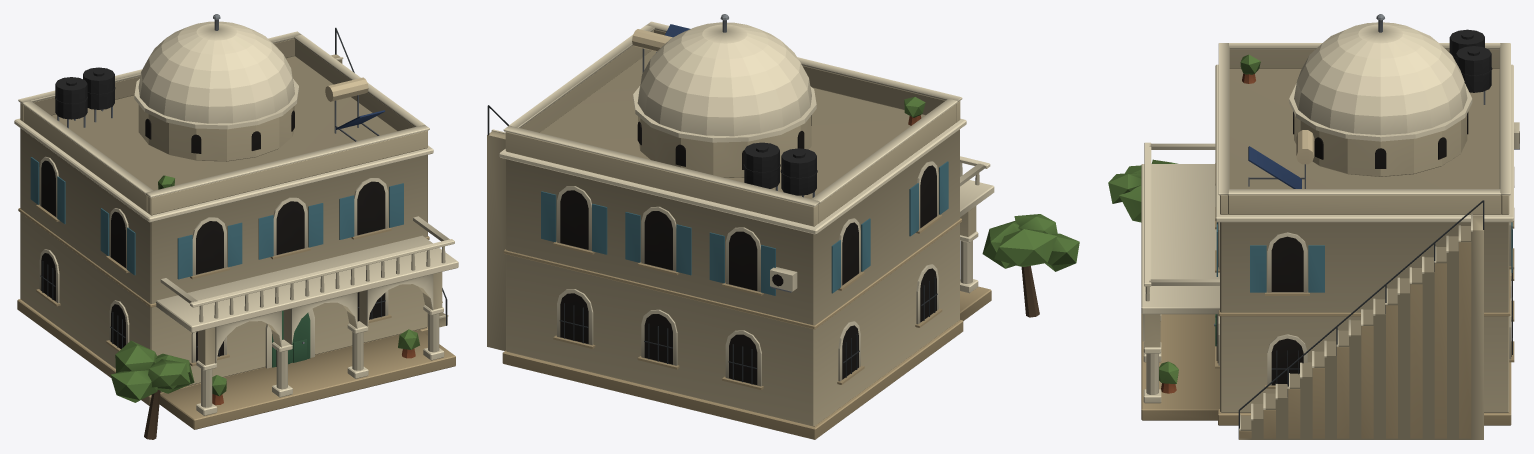
File: jlm_courtyard.glb
The picture shows the model from 3 angles, left to right: view 1: azimuth 30°, elevation 25°; view 2: azimuth 150°, elevation 25°; view 3: azimuth 270°, elevation 25°; orthographic projection. The views are drawn at different scales.
Visible parts, largest first — view 1: jlm_courtyard; view 2: jlm_courtyard; view 3: jlm_courtyard.
Boxes of the visible parts, bbox=[...] form: jlm_courtyard: bbox=[14, 14, 458, 439]; jlm_courtyard: bbox=[487, 14, 1079, 439]; jlm_courtyard: bbox=[1108, 14, 1519, 439].
Size of the model in its own units: 14.87 by 11.57 by 12.82.
